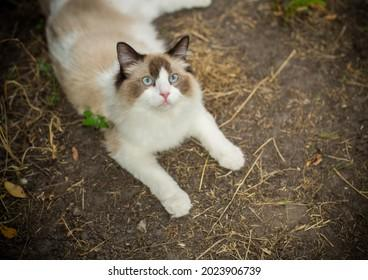ragdoll: (111, 25, 200, 124)
